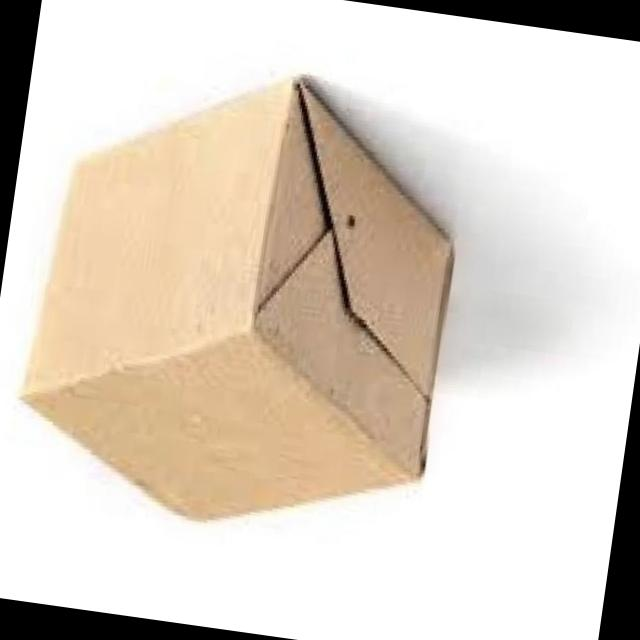cardboard paper: (22, 84, 451, 522)
